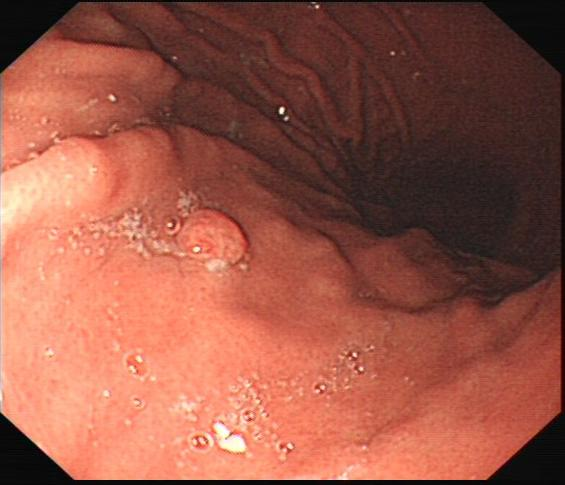Polyp: (168, 202, 249, 275)
